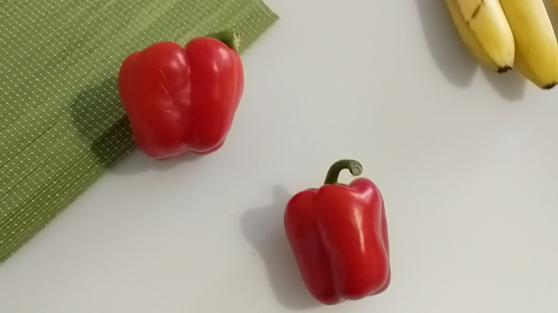banana: (441, 1, 515, 82), (520, 1, 557, 91)
pepper: (115, 35, 247, 155), (292, 164, 398, 306)
